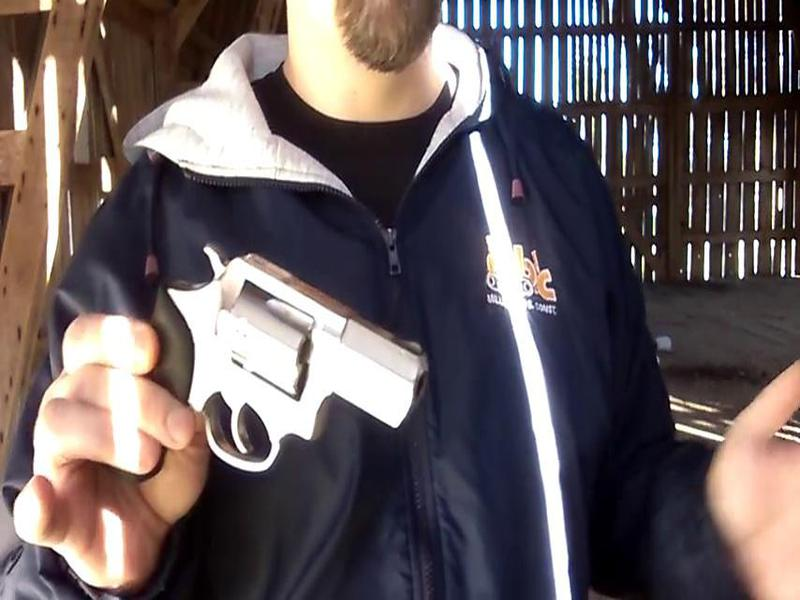Revolver: (137, 234, 441, 483)
